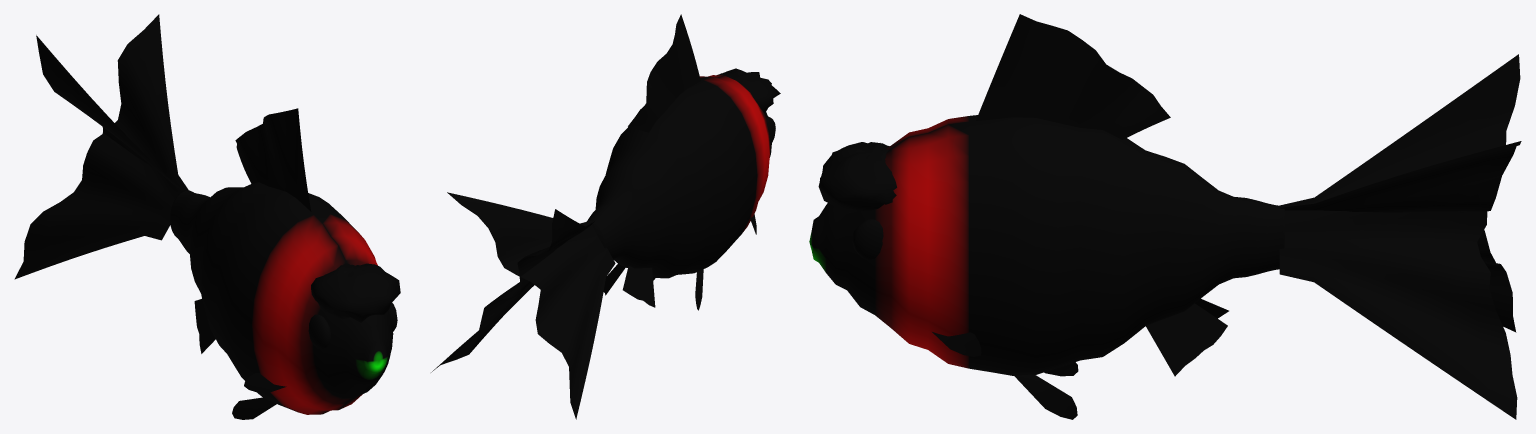
File: goldfish-oranda.glb
The picture shows the model from 3 angles, left to right: view 1: azimuth 30°, elevation 25°; view 2: azimuth 150°, elevation 25°; view 3: azimuth 270°, elevation 25°; orthographic projection. The views are drawn at different scales.
Visible parts, largest first — view 1: gforanda_body, gforanda_caudalR, gforanda_dorsal, gforanda_bodyWen, gforanda_caudalL, gforanda_pelvicL, gforanda_analR, gforanda_eyeL, gforanda_pectoralL; view 2: gforanda_body, gforanda_caudalR, gforanda_dorsal, gforanda_caudalL, gforanda_bodyWen, gforanda_analR; view 3: gforanda_body, gforanda_caudalL, gforanda_dorsal, gforanda_caudalR, gforanda_bodyWen, gforanda_analL, gforanda_pelvicR, gforanda_eyeR, gforanda_pectoralR.
Part boxes in pixels (x1=…): gforanda_body: x1=170, y1=182, x2=393, y2=414; gforanda_caudalR: x1=14, y1=14, x2=188, y2=279; gforanda_dorsal: x1=235, y1=108, x2=311, y2=211; gforanda_bodyWen: x1=311, y1=263, x2=400, y2=322; gforanda_caudalL: x1=36, y1=35, x2=184, y2=191; gforanda_pelvicL: x1=232, y1=397, x2=276, y2=419; gforanda_analR: x1=194, y1=299, x2=215, y2=353; gforanda_eyeL: x1=308, y1=314, x2=330, y2=348; gforanda_pectoralL: x1=244, y1=373, x2=286, y2=392; gforanda_body: x1=587, y1=75, x2=771, y2=278; gforanda_caudalR: x1=447, y1=192, x2=615, y2=419; gforanda_dorsal: x1=628, y1=14, x2=700, y2=132; gforanda_caudalL: x1=431, y1=209, x2=594, y2=372; gforanda_bodyWen: x1=717, y1=68, x2=780, y2=112; gforanda_analR: x1=622, y1=266, x2=655, y2=307; gforanda_body: x1=809, y1=115, x2=1284, y2=375; gforanda_caudalL: x1=1279, y1=54, x2=1520, y2=419; gforanda_dorsal: x1=976, y1=14, x2=1170, y2=139; gforanda_caudalR: x1=1280, y1=141, x2=1521, y2=332; gforanda_bodyWen: x1=818, y1=142, x2=896, y2=212; gforanda_analL: x1=1146, y1=303, x2=1227, y2=376; gforanda_pelvicR: x1=1014, y1=374, x2=1077, y2=419; gforanda_eyeR: x1=852, y1=219, x2=883, y2=259; gforanda_pectoralR: x1=932, y1=332, x2=981, y2=356.
Bounding box in the file's own units: 0.5046 × 0.899 × 1.5.
